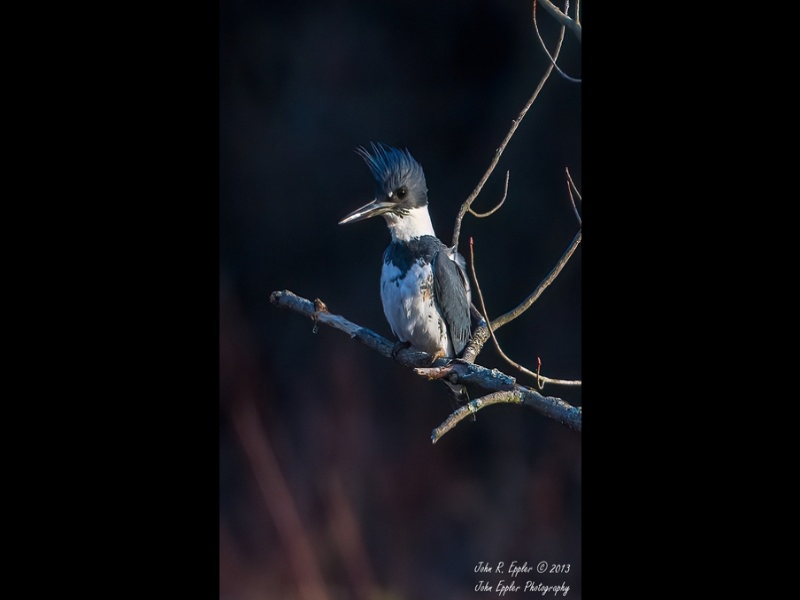kingfisher: (334, 142, 474, 401)
